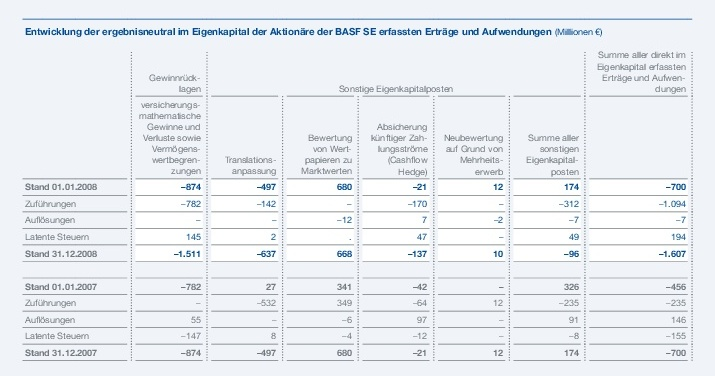table: (0, 0, 715, 376)
